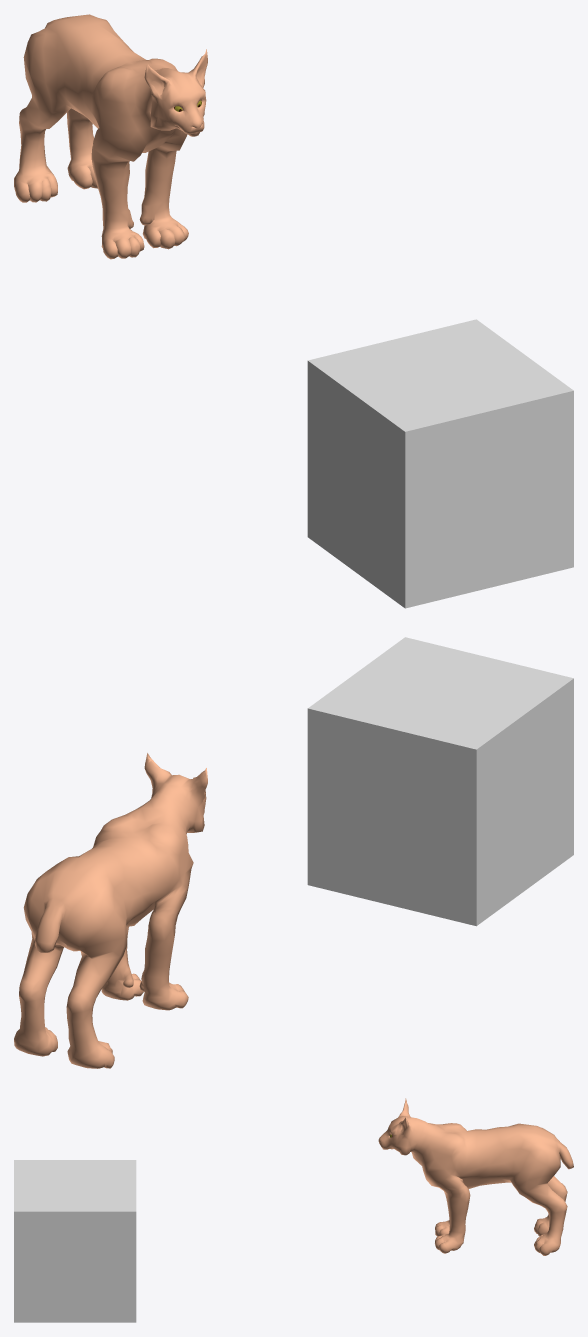
Rendered from lince.fbx.
3 renders of one model, top to bottom at view 1: azimuth 30°, elevation 25°; view 2: azimuth 150°, elevation 25°; view 3: azimuth 270°, elevation 25°, orthographic. The views are drawn at different scales.
Parts seen in each view (by area): view 1: Cube, Sphere.001; view 2: Cube, Sphere.001; view 3: Cube, Sphere.001.
Part boxes in pixels (x1,y1,x2,y2): Cube: [307, 319, 573, 608]; Sphere.001: [14, 14, 207, 259]; Cube: [307, 637, 573, 926]; Sphere.001: [14, 753, 207, 1068]; Cube: [14, 1160, 136, 1322]; Sphere.001: [378, 1098, 573, 1255].
Bounding box in the file's own units: 200 × 343 × 916.
